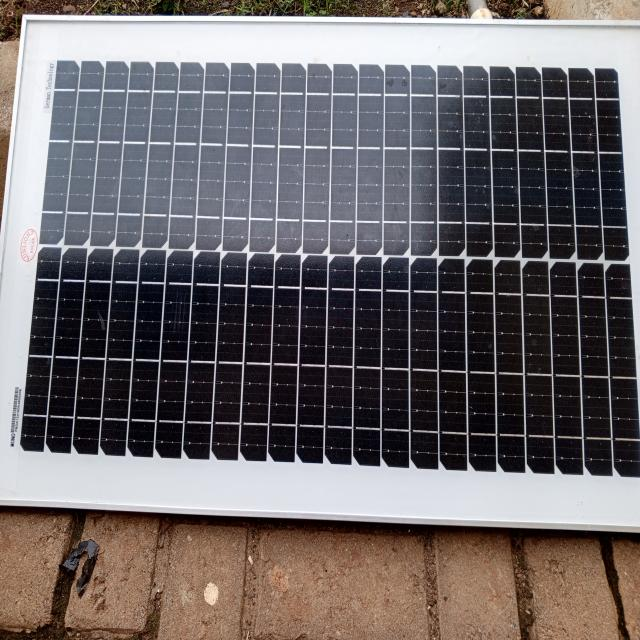Clean: (26, 49, 632, 498)
